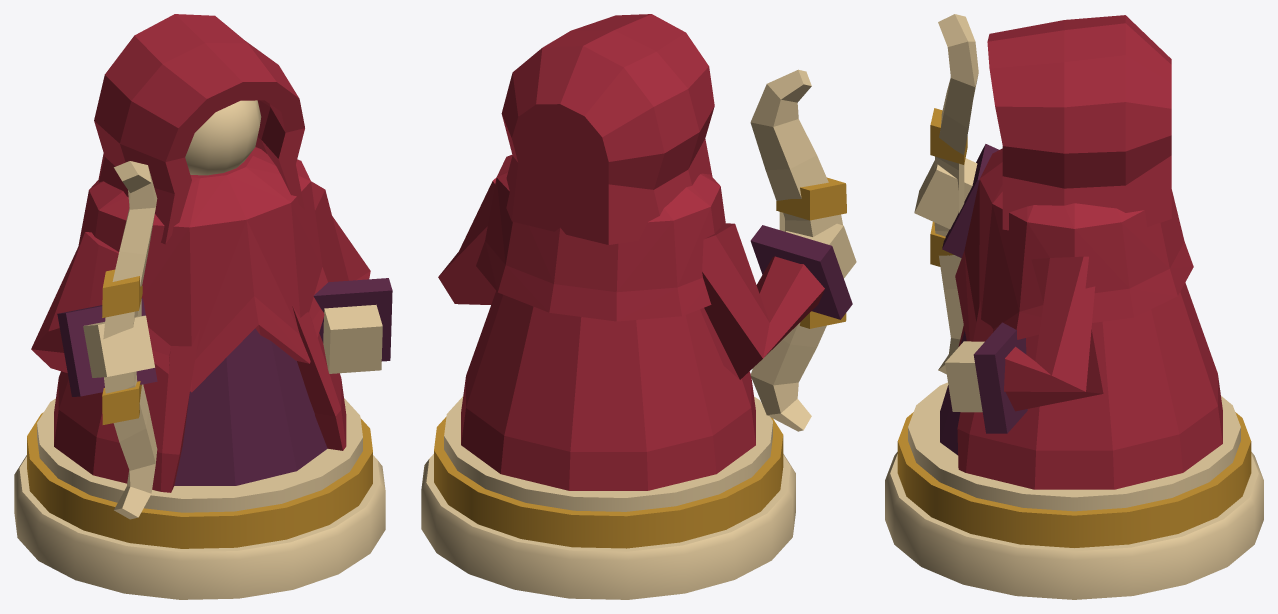
Rendered from archer.glb.
3 renders of one model, left to right at view 1: azimuth 30°, elevation 25°; view 2: azimuth 150°, elevation 25°; view 3: azimuth 270°, elevation 25°, orthographic.
Parts seen in each view (by area): view 1: archer; view 2: archer; view 3: archer.
Boxes of the visible parts, bbox=[...] form: archer: bbox=[14, 14, 392, 599]; archer: bbox=[421, 14, 856, 599]; archer: bbox=[885, 14, 1263, 599].
Size of the model in its own units: 0.7877 by 1.07 by 0.74.
